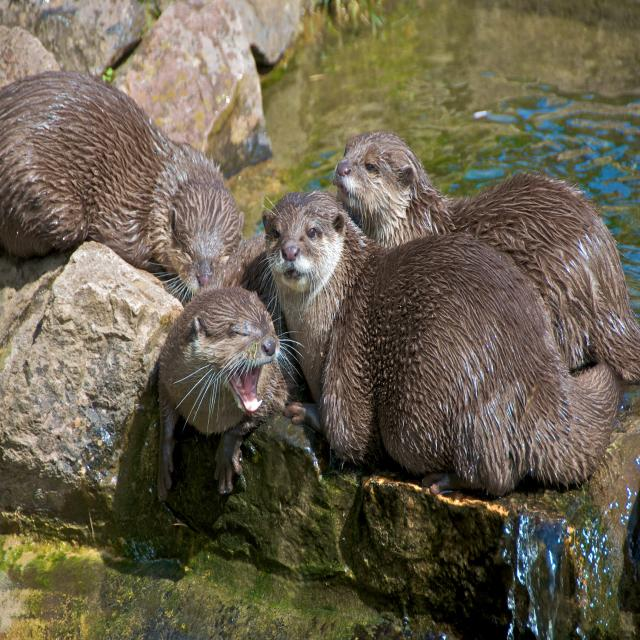otter: (266, 188, 620, 488), (335, 130, 640, 386), (1, 73, 243, 293), (154, 281, 296, 494)
